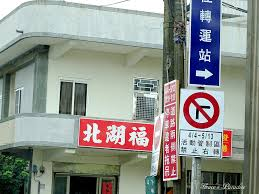No_right_turn: (183, 92, 219, 129)
